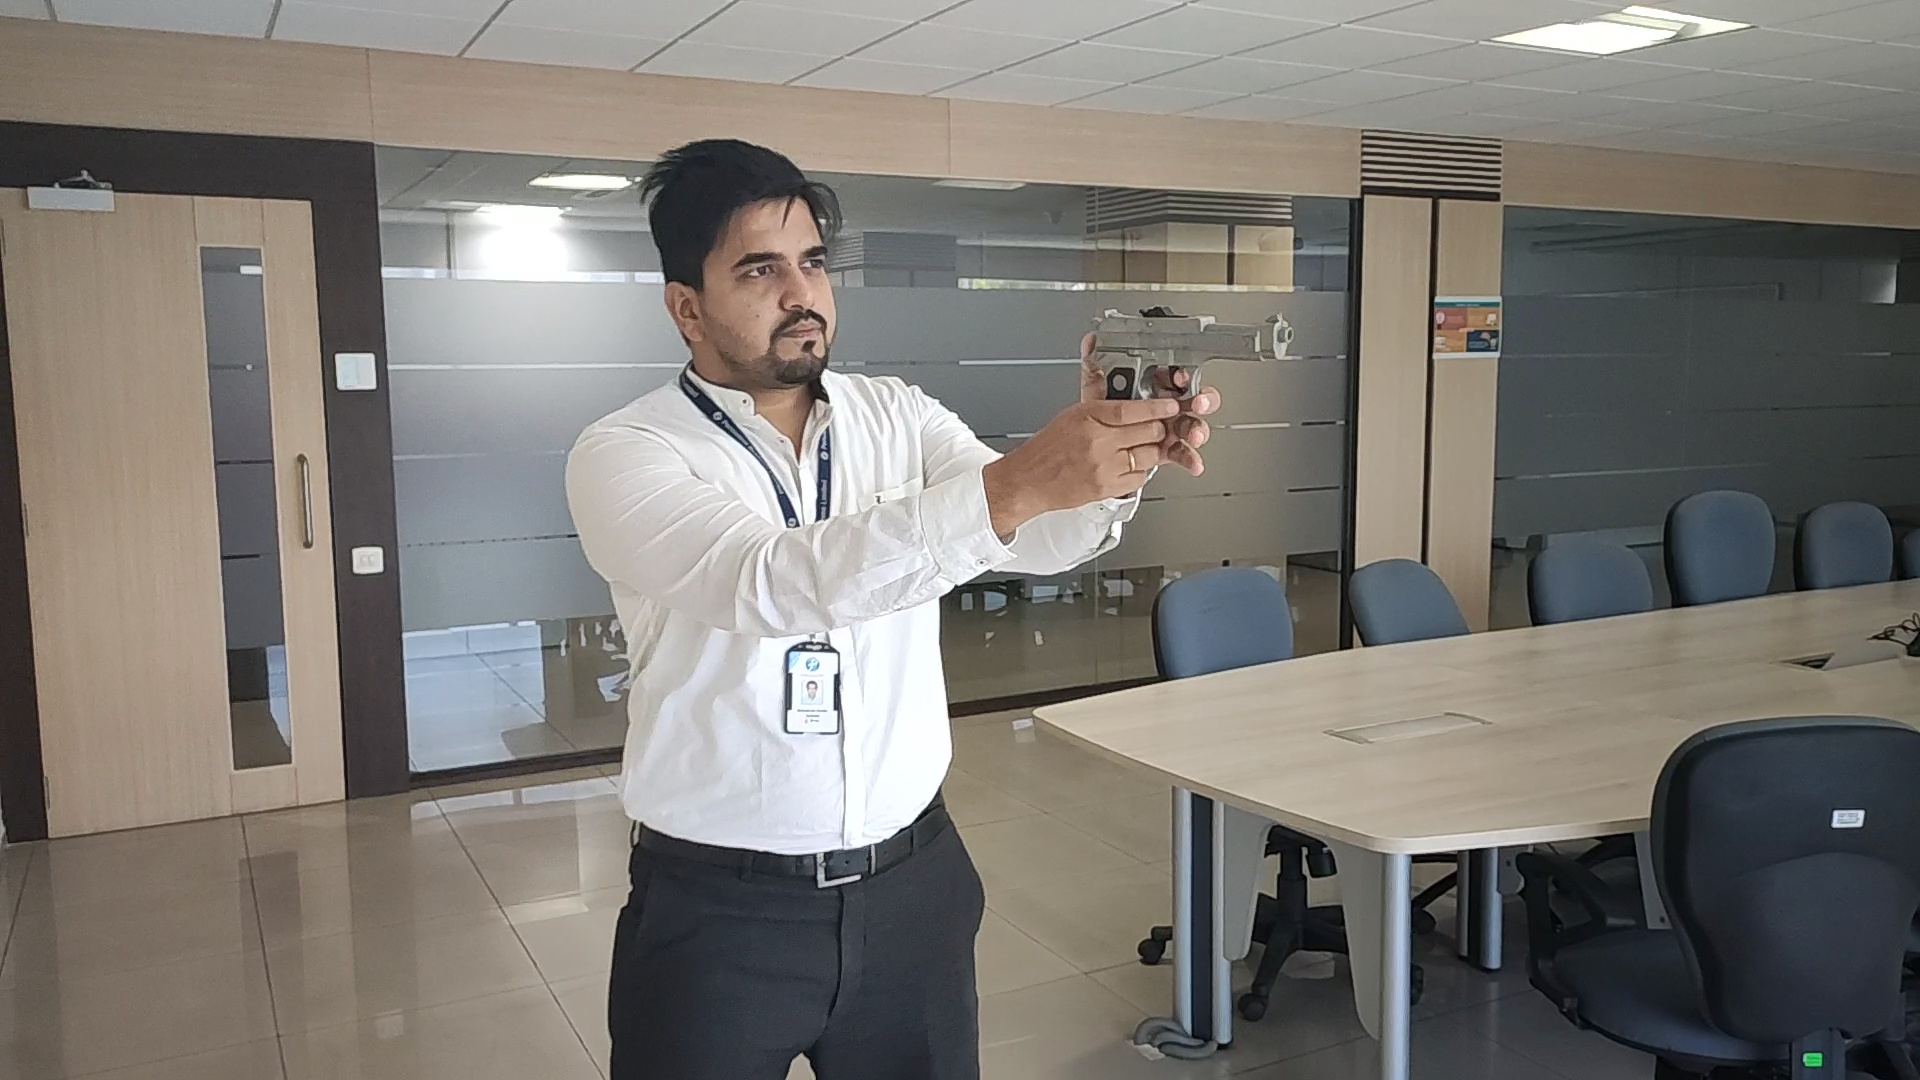gun: (1083, 305, 1292, 406)
